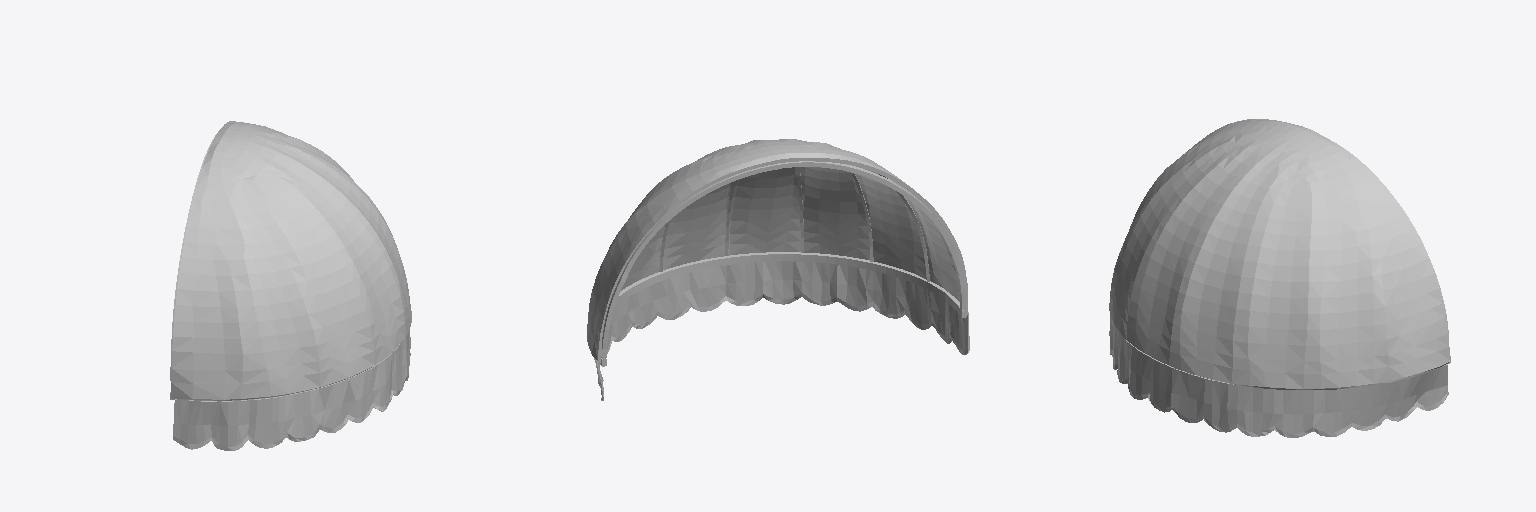
3 renders of one model, left to right at view 1: azimuth 30°, elevation 25°; view 2: azimuth 150°, elevation 25°; view 3: azimuth 270°, elevation 25°, orthographic.
Parts seen in each view (by area): view 1: Bistro_Research_Exterior_Paris_BistroAwning_02B_4113; view 2: Bistro_Research_Exterior_Paris_BistroAwning_02B_4113; view 3: Bistro_Research_Exterior_Paris_BistroAwning_02B_4113.
Part boxes in pixels (x1,y1,x2,y2): Bistro_Research_Exterior_Paris_BistroAwning_02B_4113: (170, 121, 411, 450); Bistro_Research_Exterior_Paris_BistroAwning_02B_4113: (587, 139, 969, 400); Bistro_Research_Exterior_Paris_BistroAwning_02B_4113: (1109, 119, 1450, 437).
Bounding box in the file's own units: 2.27 × 1.76 × 2.36.